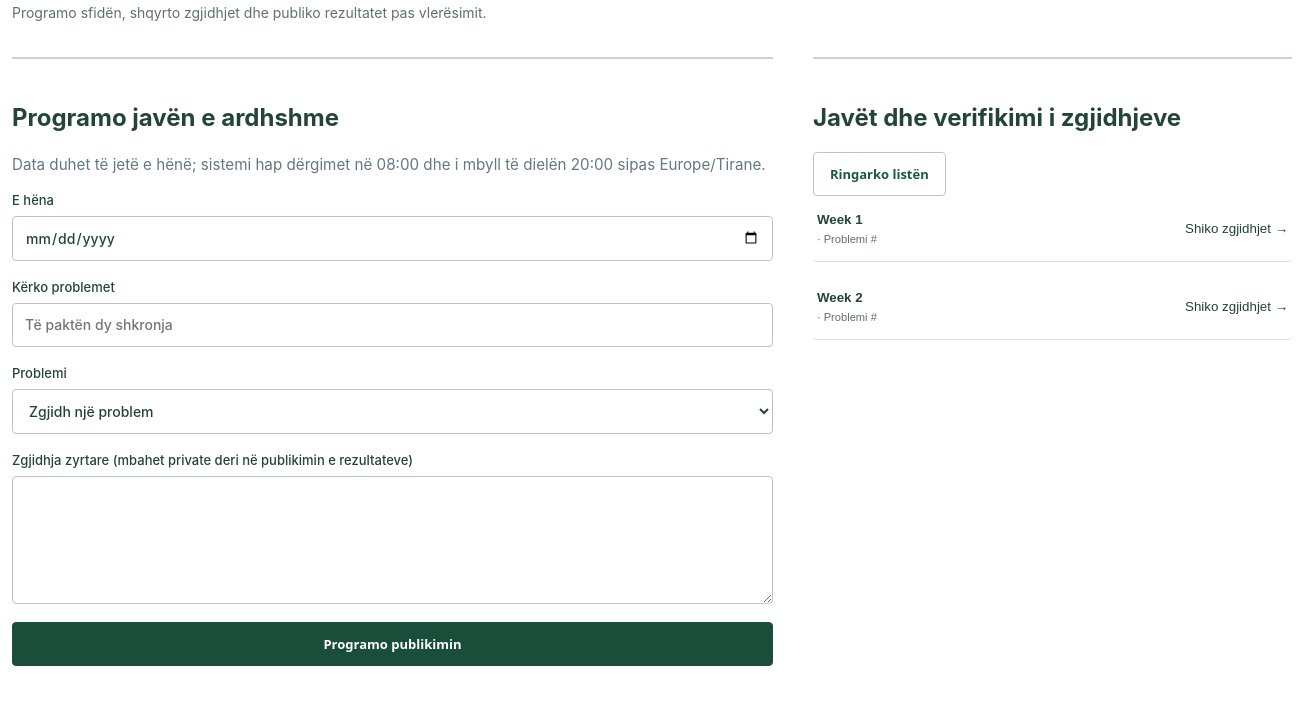
Test case: changing weekly review never shows submissions from an earlier request
Click the button "Week 1 · Problemi # Shiko zgjidhjet →" at {"x": 840, "y": 219}, box [813, 196, 1292, 262]
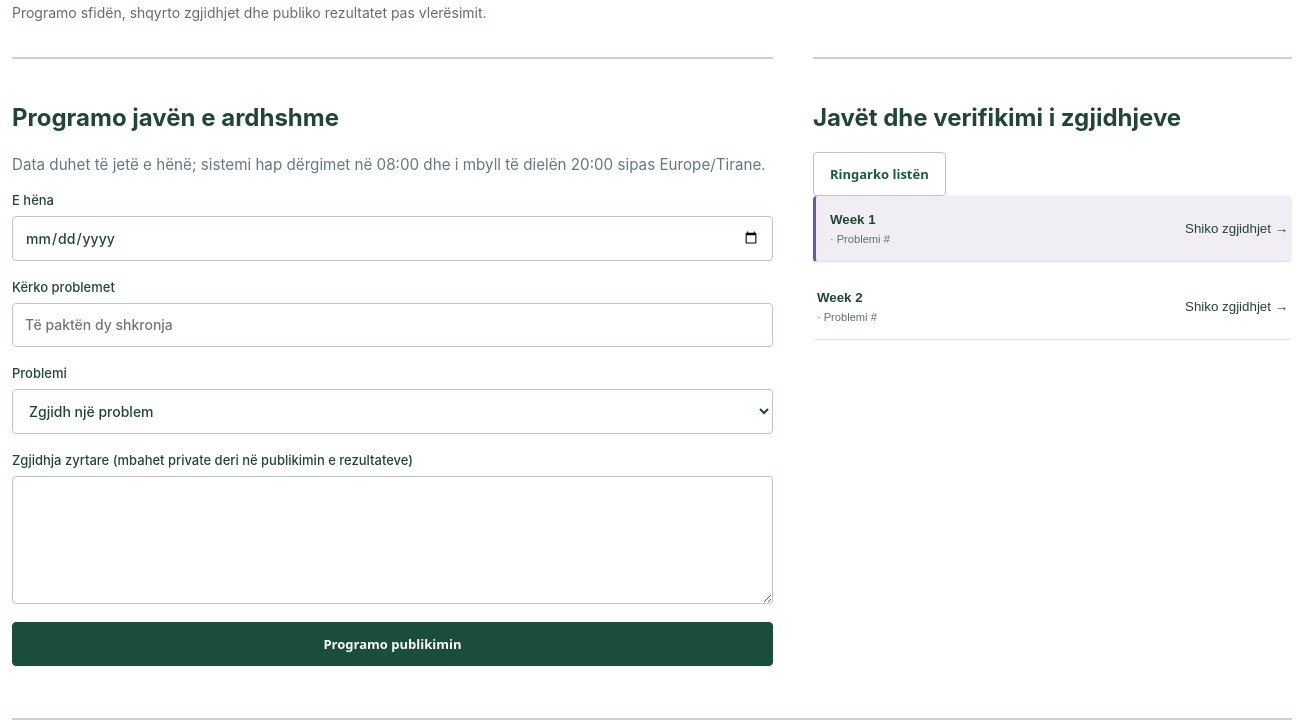
Click the button "Week 2 · Problemi # Shiko zgjidhjet →" at {"x": 840, "y": 297}, box [813, 274, 1292, 340]
(page scrolled)
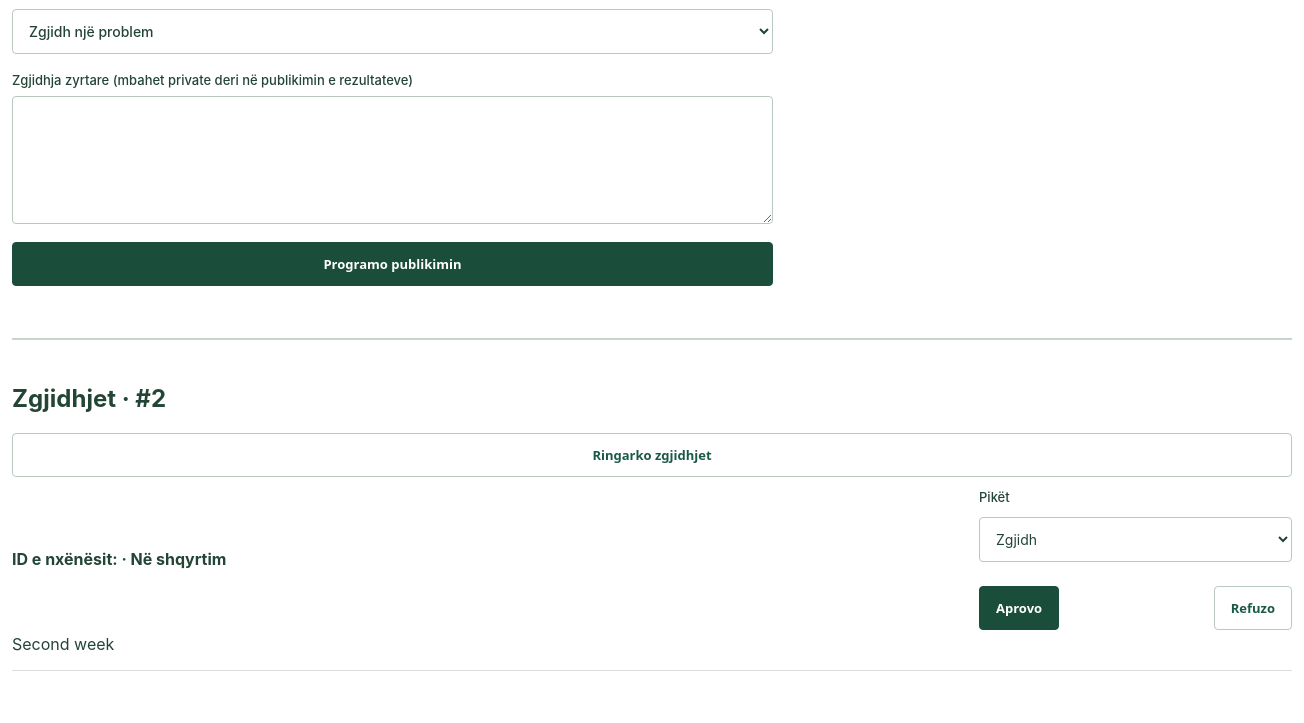
Expected: the text "Second week" is shown, [12, 634, 114, 654]
